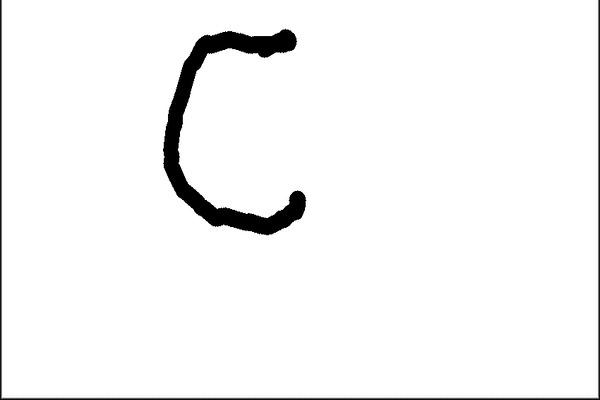C: (157, 24, 313, 236)
